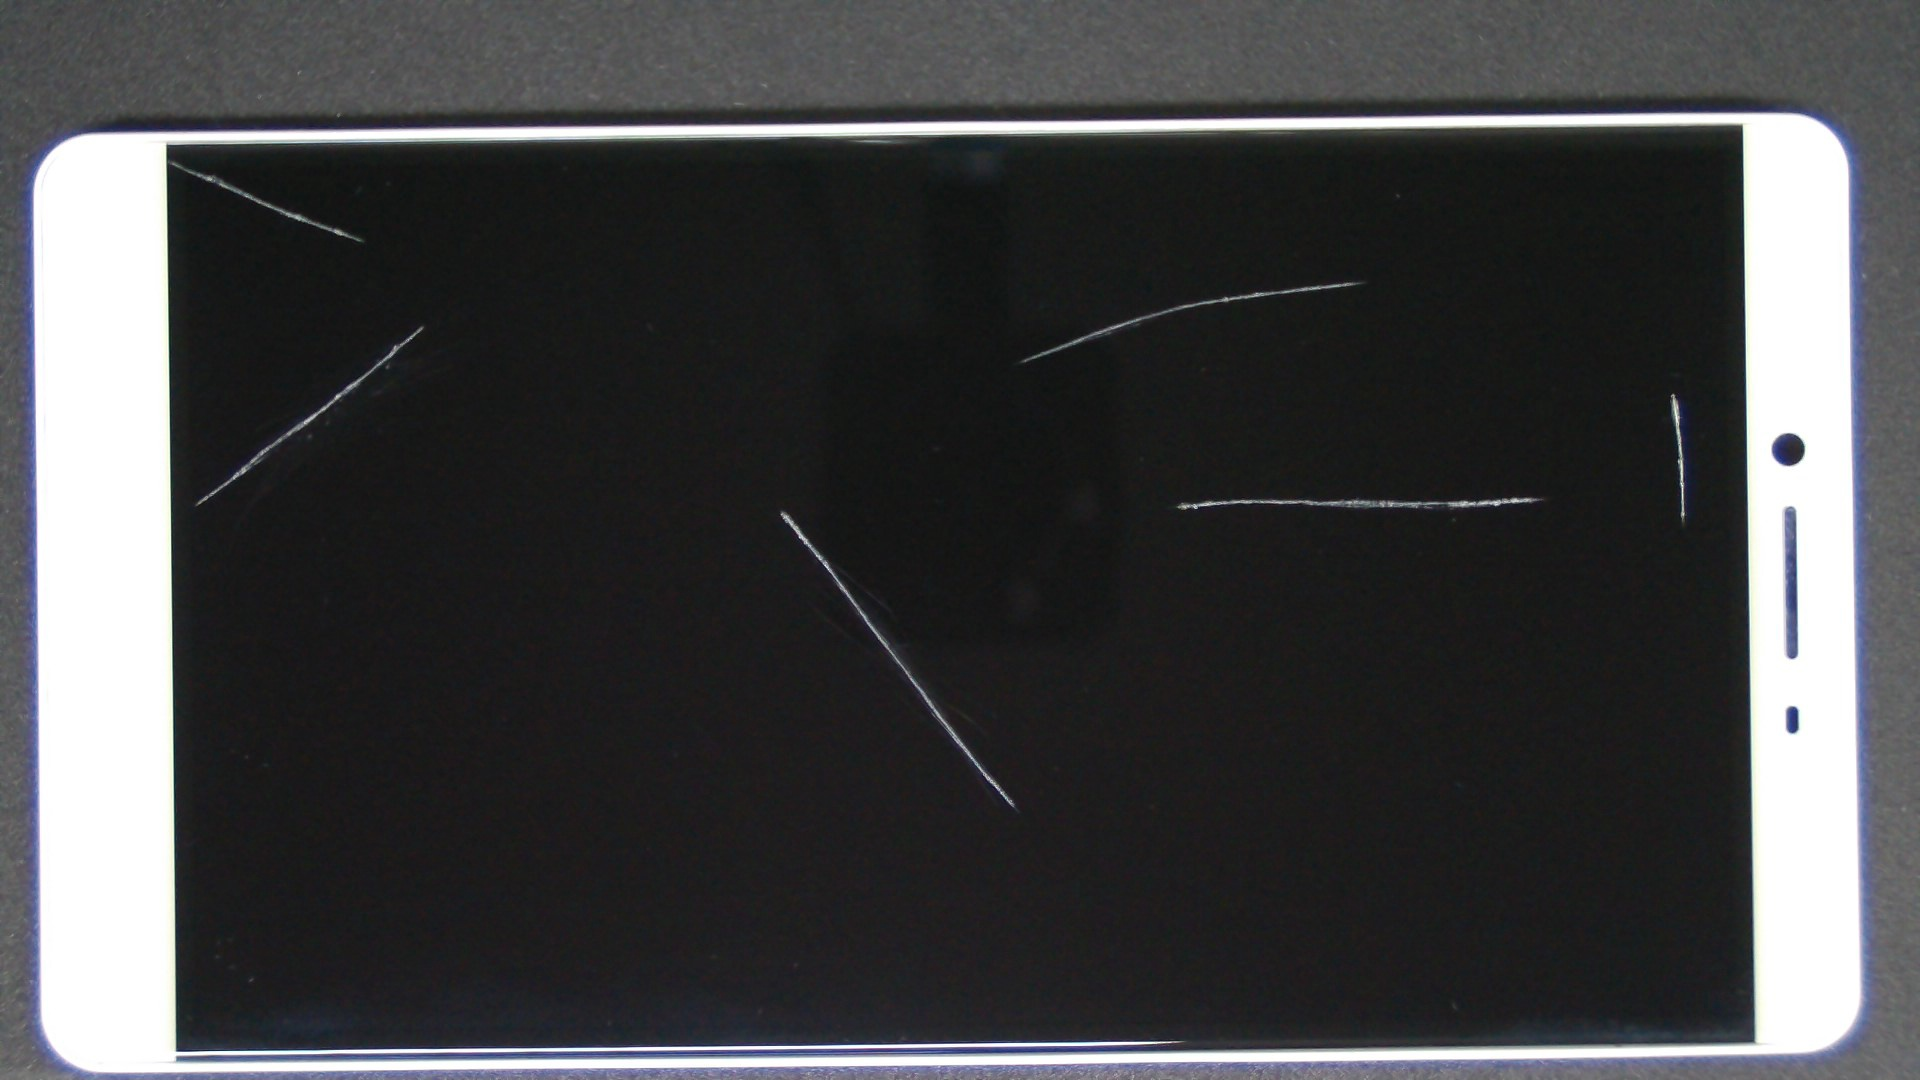oil: (756, 248, 1920, 745), (837, 195, 1920, 588), (389, 253, 1168, 765), (673, 140, 1920, 422), (212, 161, 632, 487), (84, 79, 253, 239)
